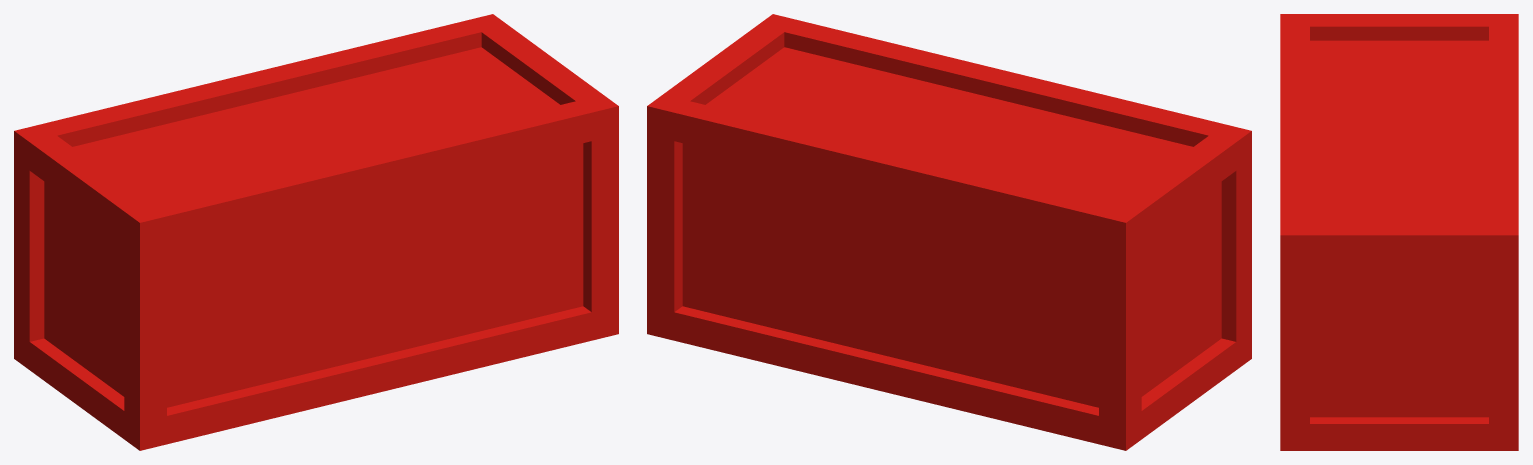
File: big box.fbx
3 renders of one model, left to right at view 1: azimuth 30°, elevation 25°; view 2: azimuth 150°, elevation 25°; view 3: azimuth 270°, elevation 25°, orthographic. The views are drawn at different scales.
Parts seen in each view (by area): view 1: Cube.047; view 2: Cube.047; view 3: Cube.047.
Boxes of the visible parts, x1=… form: Cube.047: x1=14, y1=14, x2=618, y2=450; Cube.047: x1=647, y1=14, x2=1251, y2=450; Cube.047: x1=1280, y1=14, x2=1518, y2=450.
Bounding box in the file's own units: 254 × 116 × 116.
